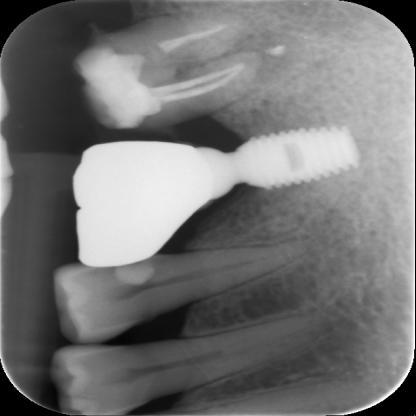Bicon: (241, 123, 368, 194)
